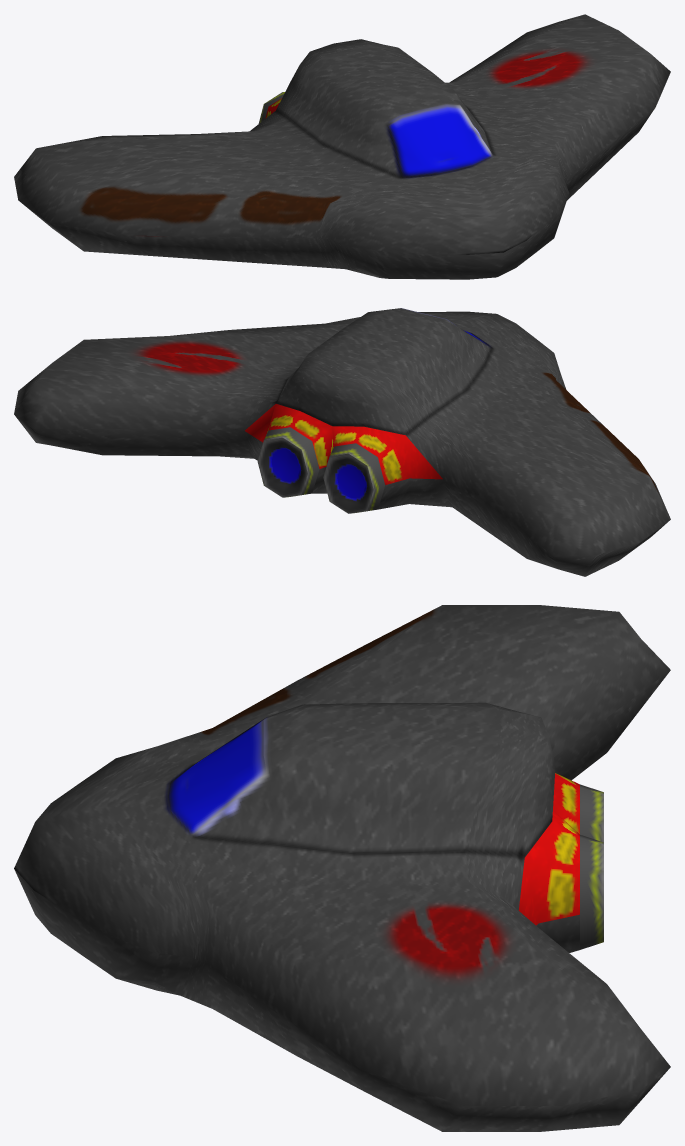
The model's file is SpaceShip3.fbx.
3 views of the same model, one above another, from view 1: azimuth 30°, elevation 25°; view 2: azimuth 150°, elevation 25°; view 3: azimuth 270°, elevation 25° (orthographic). The views are drawn at different scales.
Parts seen in each view (by area): view 1: pCube1; view 2: pCube1; view 3: pCube1.
Boxes of the visible parts, left/top/right/bottom form: pCube1: left=14, top=14, right=670, bottom=279; pCube1: left=14, top=308, right=670, bottom=576; pCube1: left=14, top=605, right=670, bottom=1131.
Bounding box in the file's own units: 16.36 × 3.26 × 9.56.
